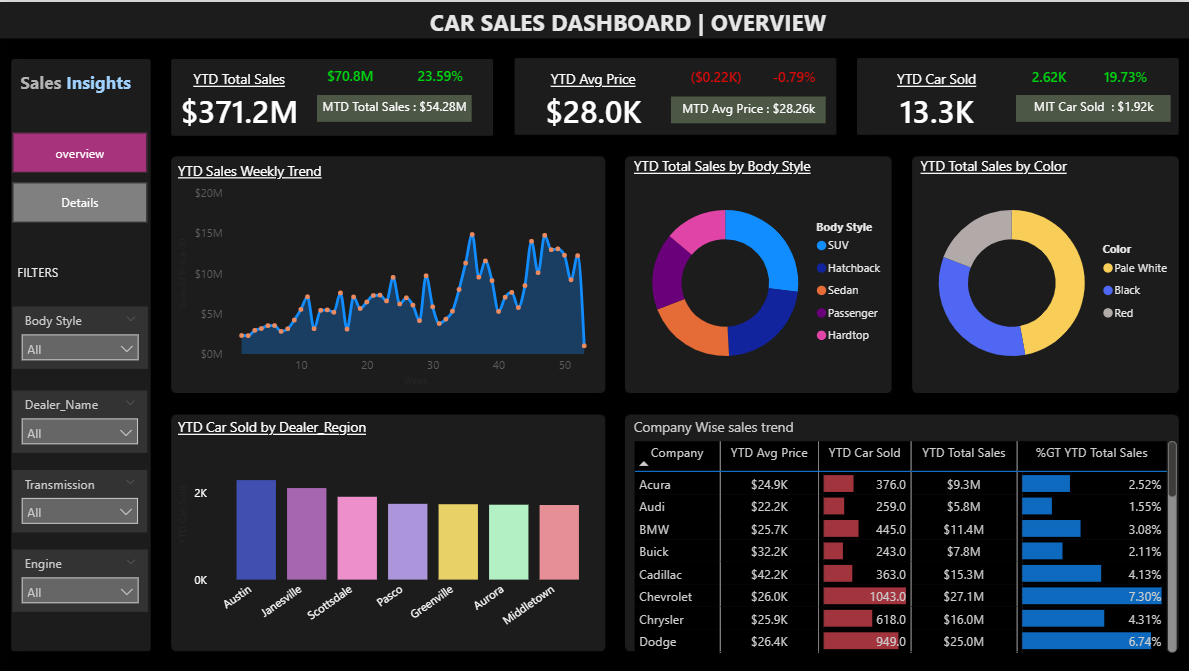

The page's visual inventory and layout, read from the dashboard file:
{"tool":"powerbi","page":{"name":"overview","canvas":[1280,720],"ordinal":0},"visuals":[{"type":"card","title":"YTD Total Sales","fields":{"Values":["car_data.YTD Total Sales"]},"box":[176.6,71.6,167,68.4],"z":0},{"type":"card","fields":{"Values":["car_data.Sales Difference"]},"box":[343.6,55.7,70,49.3],"z":1000},{"type":"card","fields":{"Values":["car_data.YOY Sales Growth"]},"box":[439,55.7,70,49.3],"z":2000},{"type":"card","fields":{"Values":["car_data.MTD KPI"]},"box":[343.6,100.2,165.4,28.6],"z":3000},{"type":"card","title":"YTD Avg Price","fields":{"Values":["car_data.YTD Avg Price"]},"box":[555.1,71.6,167,68.4],"z":4000},{"type":"card","fields":{"Values":["car_data.Avg price Difference"]},"box":[734.9,55.7,70,50.9],"z":5000},{"type":"card","fields":{"Values":["car_data.YOY Avg Price Growth"]},"box":[817.6,55.7,70,50.9],"z":6000},{"type":"card","fields":{"Values":["car_data.MTD Avg Price Kpi"]},"box":[722.1,101.8,165.4,28.6],"z":7000},{"type":"card","title":"YTD Car Sold","fields":{"Values":["car_data.YTD Car Sold"]},"box":[922.6,71.6,167,68.4],"z":8000},{"type":"card","fields":{"Values":["car_data.Car Sold Diff"]},"box":[1089.6,55.7,70,50.9],"z":9000},{"type":"card","fields":{"Values":["car_data.YOY Car Sold Growth"]},"box":[1172.3,55.7,70,50.9],"z":10000},{"type":"card","fields":{"Values":["car_data.MTD car sold kpi"]},"box":[1089.6,100.2,165.4,28.6],"z":11000},{"type":"areaChart","title":"YTD Sales Weekly Trend","fields":{"Category":["Calender Tabel.Week"],"Y":["Sum(car_data.Price ($))"]},"box":[189.3,170.2,461.3,245],"z":12000},{"type":"donutChart","fields":{"Category":["car_data.Body Style"],"Y":["car_data.YTD Total Sales"]},"box":[676,165.4,283.1,249.7],"z":13000},{"type":"donutChart","fields":{"Y":["car_data.YTD Total Sales"],"Category":["car_data.Color"]},"box":[983,165.4,283.1,249.7],"z":14000},{"type":"lineStackedColumnComboChart","fields":{"Category":["car_data.Dealer_Region"],"Y":["car_data.YTD Car Sold"]},"box":[189.3,443.8,461.3,245],"z":15000},{"type":"tableEx","title":"Company Wise sales trend","fields":{"Values":["car_data.Company","car_data.YTD Avg Price","car_data.YTD Car Sold","car_data.YTD Total Sales1","car_data.YTD Total Sales"]},"box":[676,443.8,590.1,256.1],"z":16000},{"type":"actionButton","box":[0,0,100,40],"z":17000},{"type":"textbox","box":[391.3,0,569.4,55.7],"z":18000},{"type":"slicer","fields":{"Values":["car_data.Body Style"]},"box":[17.5,326.1,144.7,66.8],"z":19000},{"type":"slicer","fields":{"Values":["car_data.Dealer_Name"]},"box":[17.5,415.1,144,66.8],"z":20000},{"type":"slicer","fields":{"Values":["car_data.Transmission"]},"box":[17.5,499.5,144,66.8],"z":21000},{"type":"slicer","fields":{"Values":["car_data.Engine"]},"box":[17.5,585.3,144.7,66.8],"z":22000},{"type":"textbox","box":[17.5,273.6,71.6,36.6],"z":23000},{"type":"pageNavigator","box":[17.5,140,144.7,97],"z":24000},{"type":"textbox","box":[20.7,66.8,141.6,39.8],"z":25000}]}

Visuals, with their boxes in screenshot pixels (x1, y1, x2, y2), scaled from the page's 1280x720 canvas onto the 1189x671 screenshot:
"YTD Total Sales" card: l=164, t=67, r=319, b=130
card - car_data.Sales Difference: l=319, t=52, r=384, b=98
card - car_data.YOY Sales Growth: l=408, t=52, r=473, b=98
card - car_data.MTD KPI: l=319, t=93, r=473, b=120
"YTD Avg Price" card: l=516, t=67, r=671, b=130
card - car_data.Avg price Difference: l=683, t=52, r=748, b=99
card - car_data.YOY Avg Price Growth: l=759, t=52, r=824, b=99
card - car_data.MTD Avg Price Kpi: l=671, t=95, r=824, b=122
"YTD Car Sold" card: l=857, t=67, r=1012, b=130
card - car_data.Car Sold Diff: l=1012, t=52, r=1077, b=99
card - car_data.YOY Car Sold Growth: l=1089, t=52, r=1154, b=99
card - car_data.MTD car sold kpi: l=1012, t=93, r=1166, b=120
"YTD Sales Weekly Trend" areaChart: l=176, t=159, r=604, b=387
donutChart - car_data.Body Style x car_data.YTD Total Sales: l=628, t=154, r=891, b=387
donutChart - car_data.YTD Total Sales x car_data.Color: l=913, t=154, r=1176, b=387
lineStackedColumnComboChart - car_data.Dealer_Region x car_data.YTD Car Sold: l=176, t=414, r=604, b=642
"Company Wise sales trend" tableEx: l=628, t=414, r=1176, b=652
actionButton: l=0, t=0, r=93, b=37
textbox: l=363, t=0, r=892, b=52
slicer - car_data.Body Style: l=16, t=304, r=151, b=366
slicer - car_data.Dealer_Name: l=16, t=387, r=150, b=449
slicer - car_data.Transmission: l=16, t=466, r=150, b=528
slicer - car_data.Engine: l=16, t=545, r=151, b=608
textbox: l=16, t=255, r=83, b=289
pageNavigator: l=16, t=130, r=151, b=221
textbox: l=19, t=62, r=151, b=99
